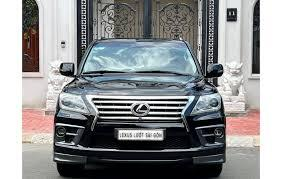lexus: (129, 99, 155, 121)
